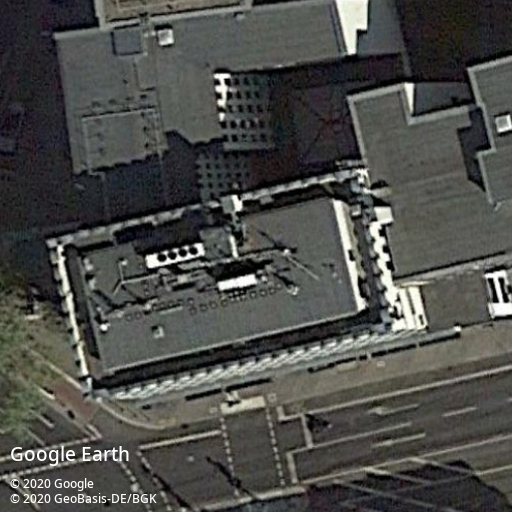Chiller: (144, 241, 206, 269)
